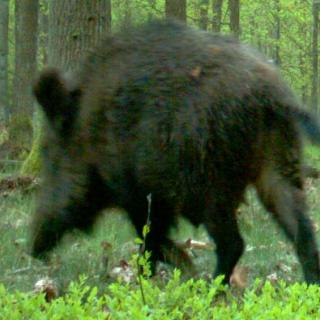Pig: (14, 2, 320, 302)
